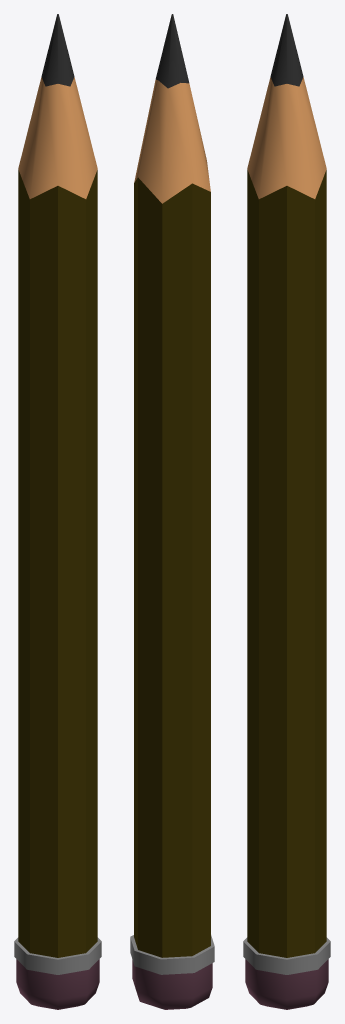
Rendered from WoodenPen.fbx.
The picture shows the model from 3 angles, left to right: view 1: azimuth 90°, elevation 25°; view 2: azimuth 210°, elevation 25°; view 3: azimuth 270°, elevation 25°; orthographic projection.
Visible parts, largest first — view 1: Cylinder; view 2: Cylinder; view 3: Cylinder.
Boxes of the visible parts, bbox=[...] form: Cylinder: bbox=[14, 14, 101, 1009]; Cylinder: bbox=[130, 14, 214, 1009]; Cylinder: bbox=[243, 14, 330, 1009].
Size of the model in its own units: 0.0125 by 0.1546 by 0.0125.
